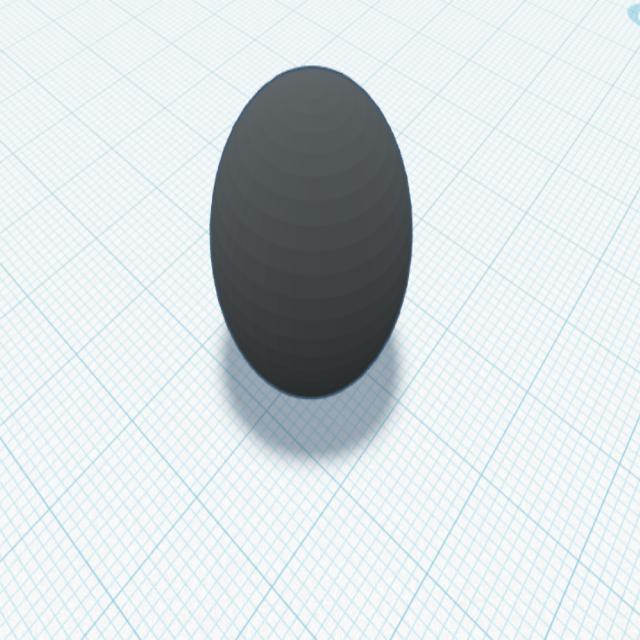sphere: (204, 57, 419, 408)
